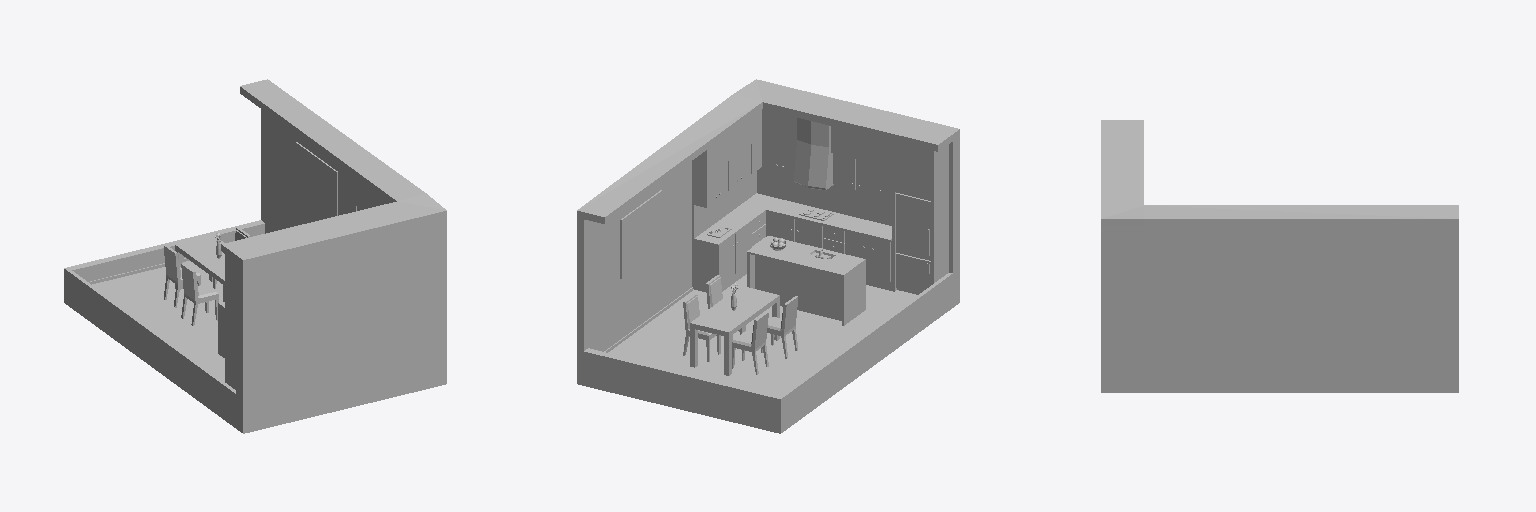
Rendered from kitchen.obj.
3 renders of one model, left to right at view 1: azimuth 30°, elevation 25°; view 2: azimuth 150°, elevation 25°; view 3: azimuth 270°, elevation 25°, orthographic.
Size of the model in its own units: 2.11 by 1.72 by 3.2.